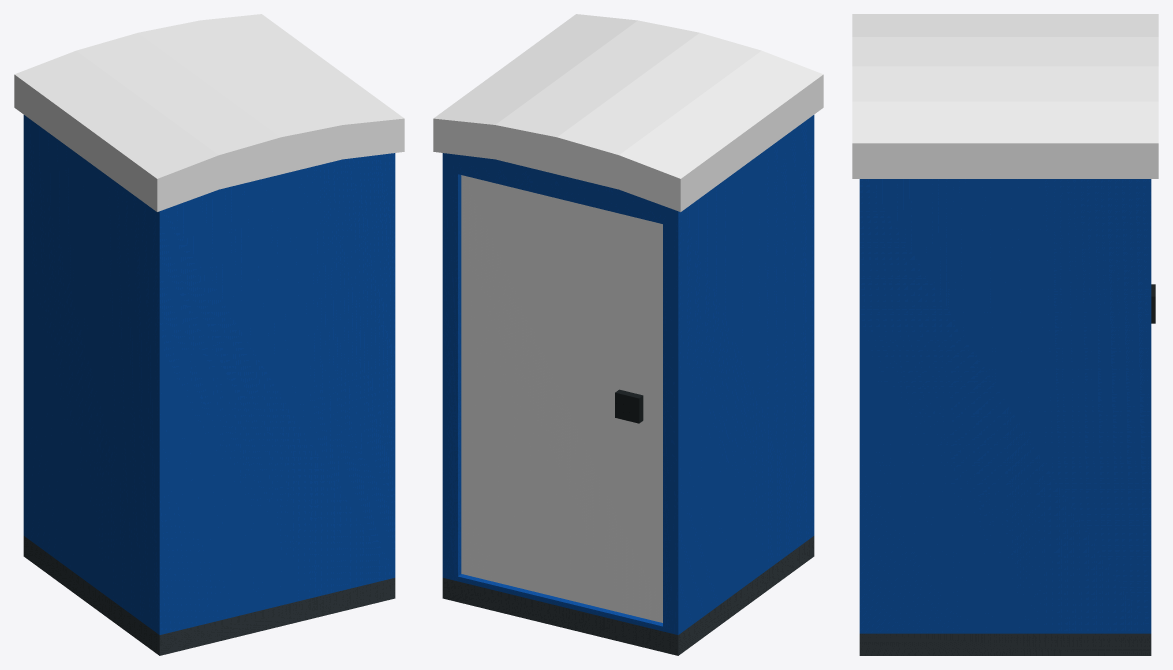
Rendered from toilet-portable.glb.
3 views of the same model, side by side, from view 1: azimuth 30°, elevation 25°; view 2: azimuth 150°, elevation 25°; view 3: azimuth 270°, elevation 25° (orthographic). The views are drawn at different scales.
Visible parts, largest first — view 1: Dixie; view 2: Dixie; view 3: Dixie.
Boxes of the visible parts, x1,y1,x2,y2 form: Dixie: (14, 14, 404, 655); Dixie: (433, 14, 823, 655); Dixie: (852, 14, 1158, 655).
Bounding box in the file's own units: 1.26 × 2.4 × 1.26.
Materials: 1 (1 with a texture image).
